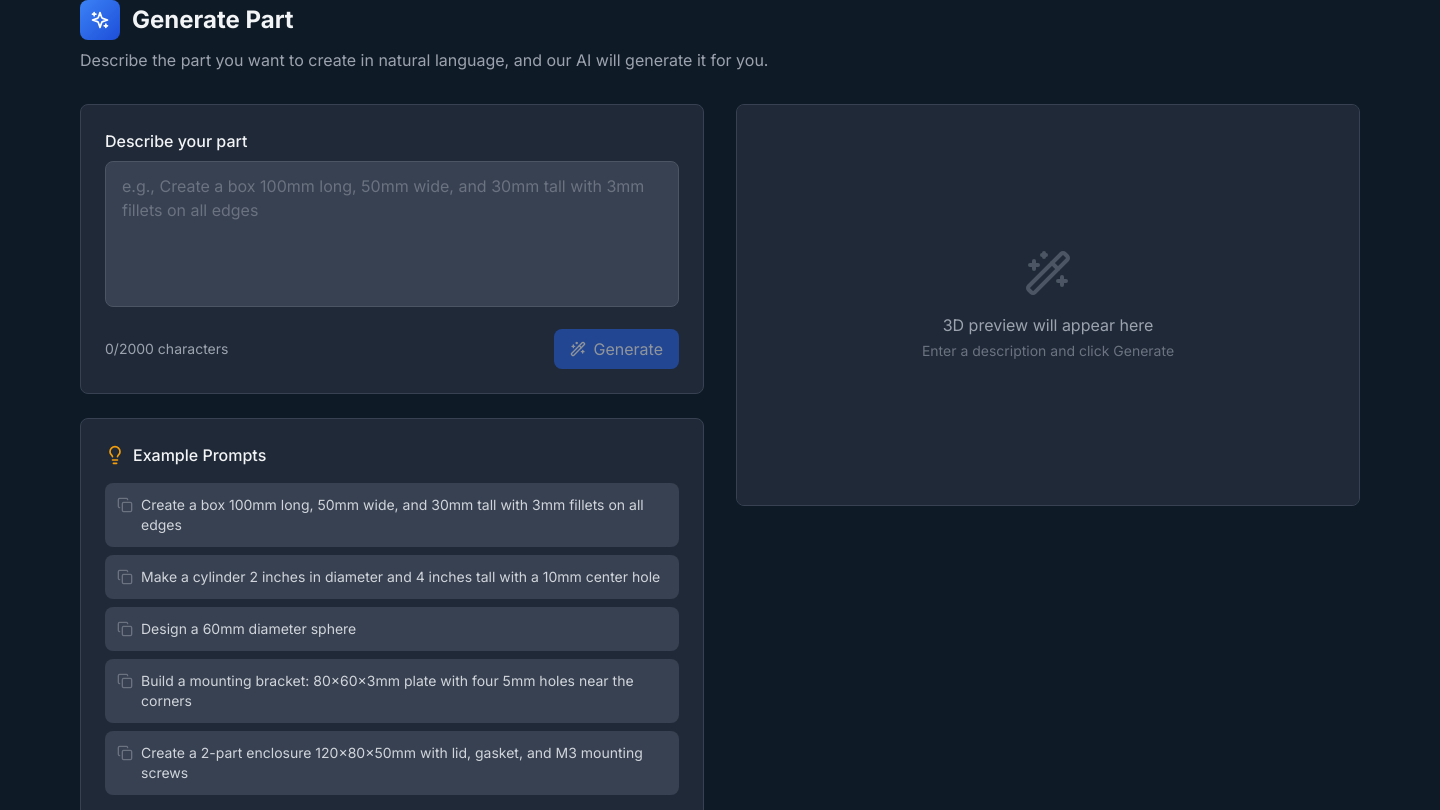
it: GeneratePage › updates character count on input
Type "Create a box" into the text box at (392, 234), box [105,161,679,307]
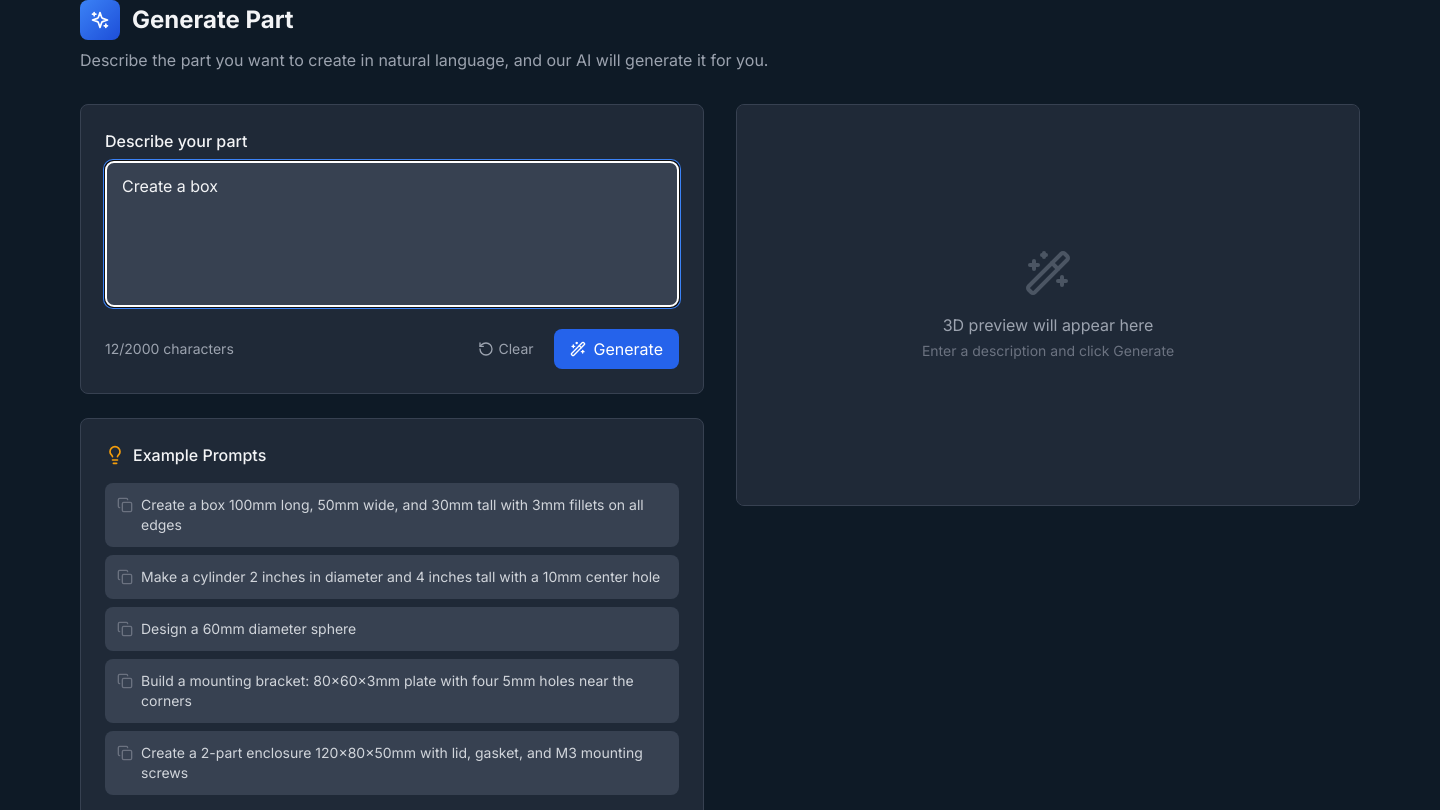
expect the text "12/2000 characters" is shown: met, box [105,339,234,359]
